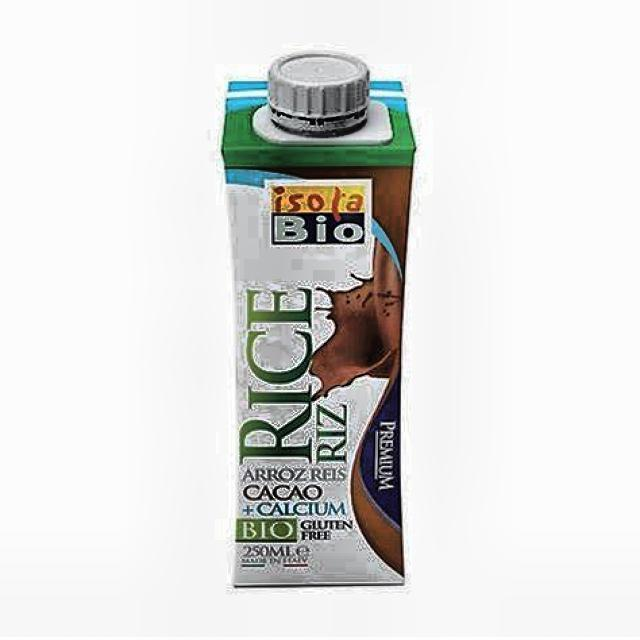cardboard: (219, 68, 416, 588)
